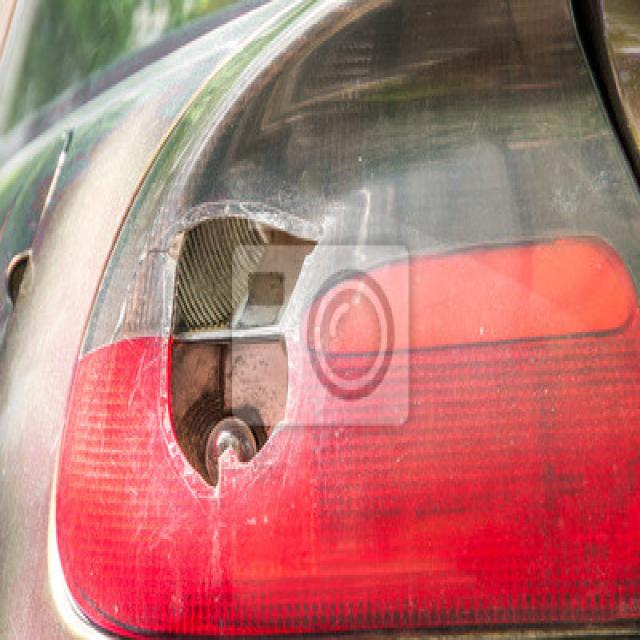Head Light: (64, 84, 638, 636)
